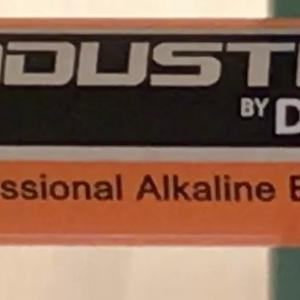ALK: (127, 164, 193, 210)
